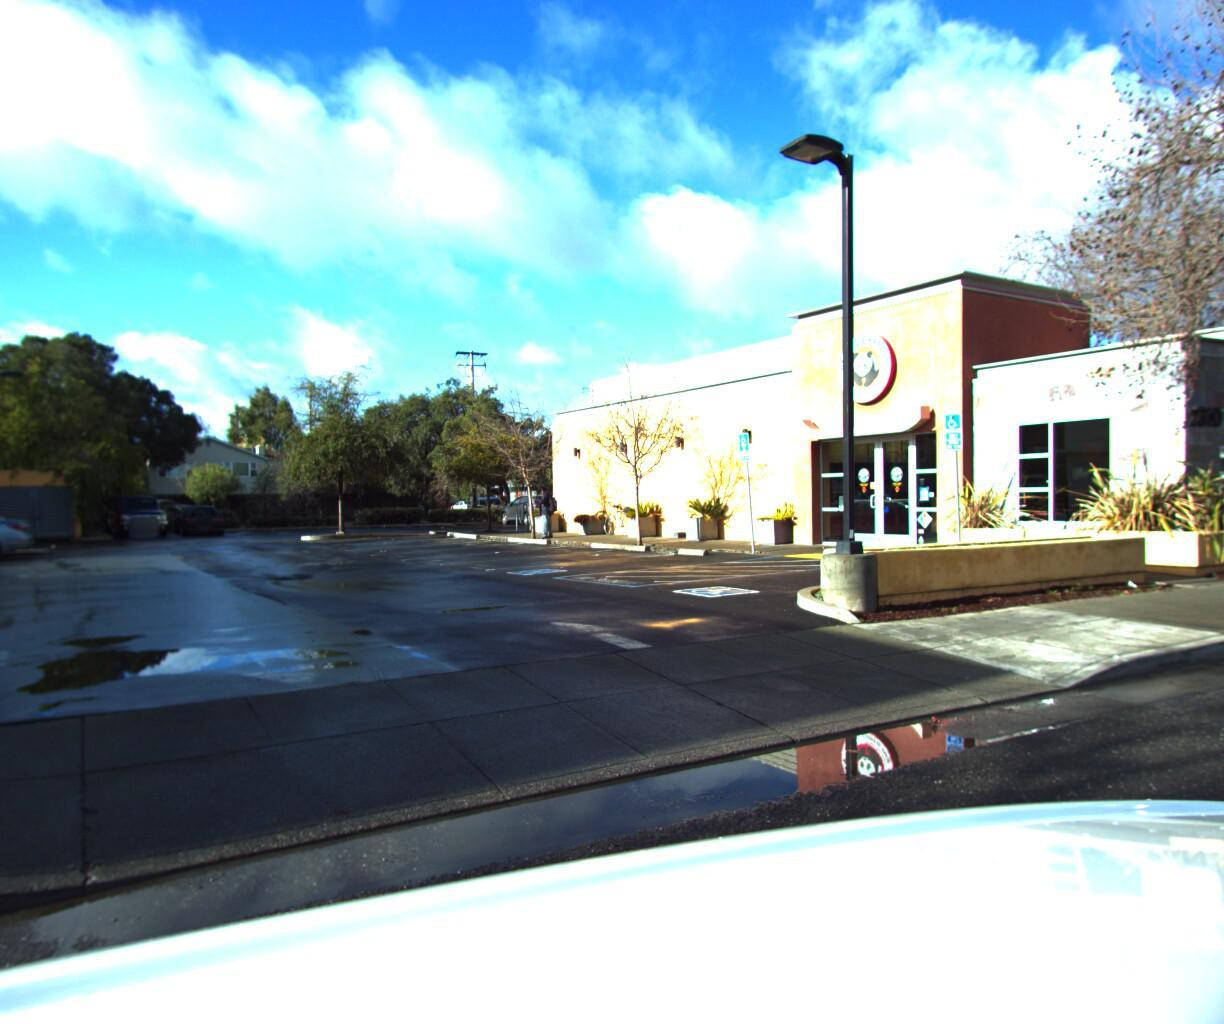car: (500, 493, 566, 522)
